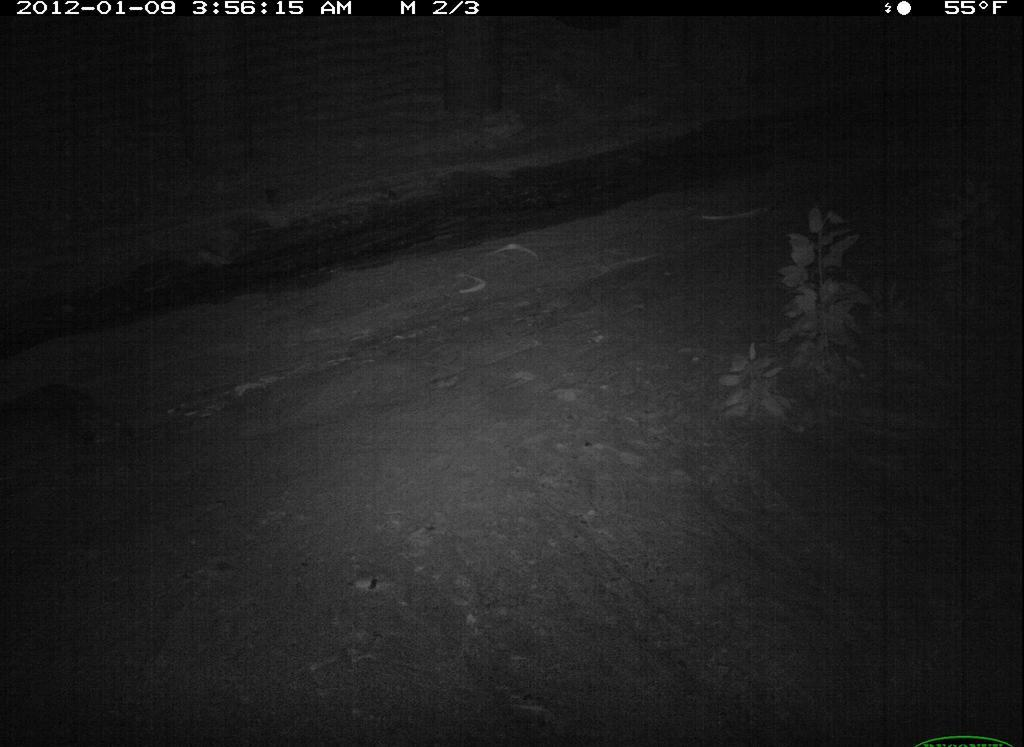raccoon: (2, 374, 144, 470)
